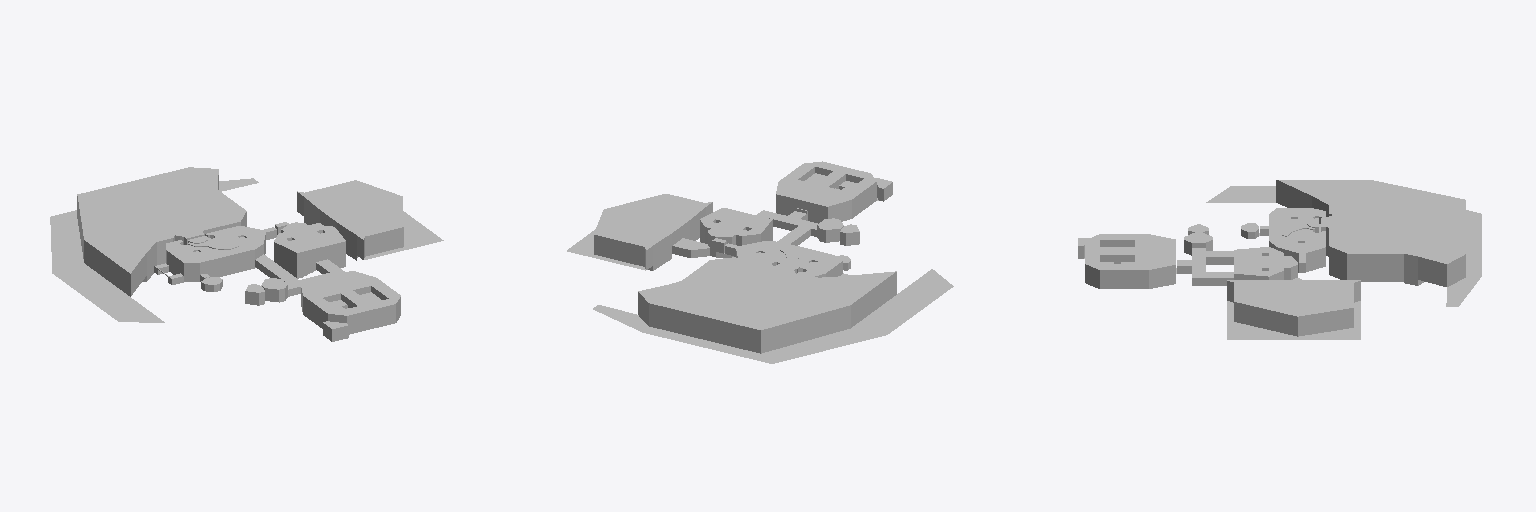
Rendered from map.obj.
3 renders of one model, left to right at view 1: azimuth 30°, elevation 25°; view 2: azimuth 150°, elevation 25°; view 3: azimuth 270°, elevation 25°, orthographic.
Parts seen in each view (by area): view 1: MAP01; view 2: MAP01; view 3: MAP01.
Part boxes in pixels (x1,y1,x2,y2): MAP01: (50, 167, 443, 341); MAP01: (567, 161, 953, 363); MAP01: (1078, 180, 1481, 339).
Size of the model in its own units: 3376 by 304 by 3648.